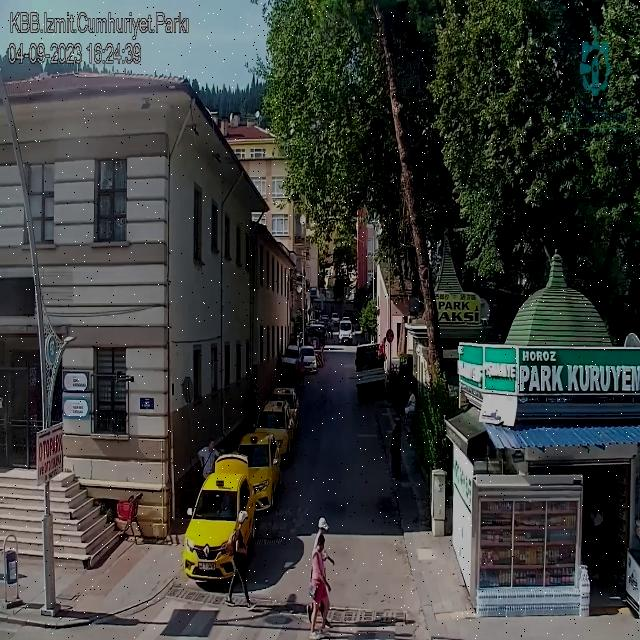Car: (178, 471, 251, 583), (238, 431, 286, 502), (269, 380, 308, 433), (260, 399, 294, 452), (298, 342, 323, 376), (280, 340, 302, 378)
Van: (338, 317, 357, 347)
